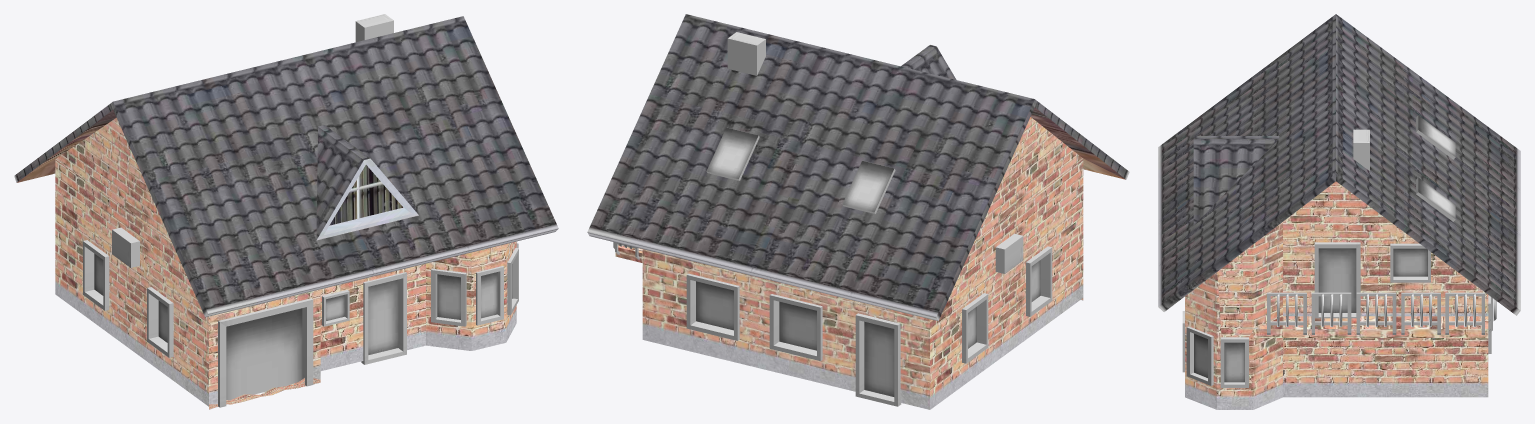
File: house2.glb
3 renders of one model, left to right at view 1: azimuth 30°, elevation 25°; view 2: azimuth 150°, elevation 25°; view 3: azimuth 270°, elevation 25°, orthographic. The views are drawn at different scales.
Visible parts, largest first — view 1: roof, WALL09, garage_door2, WALL10, WALL03, WALL02, WALL11, door3, WALL01, window_vertical2, window9, window8 (+7 smaller); view 2: roof, WALL09, WALL10, WALL06, WALL07, door4, WALL12, WALL08, window12, window11, window_roof2, window_roof (+5 smaller); view 3: roof, WALL05, WALL03, WALL04, door5, window13, window_vertical4, window_vertical3, railing2, railing3, railing, railing4 (+4 smaller).
Part boxes in pixels (x1,y1,x2,y2): roof: [14, 16, 558, 317]; WALL09: [55, 159, 139, 355]; garage_door2: [218, 298, 313, 407]; WALL10: [138, 217, 208, 406]; WALL03: [426, 241, 516, 350]; WALL02: [320, 263, 425, 370]; WALL11: [55, 118, 137, 216]; door3: [361, 272, 406, 364]; WALL01: [209, 289, 320, 404]; window_vertical2: [431, 268, 466, 326]; window9: [83, 240, 109, 310]; window8: [147, 287, 173, 357]; roof: [587, 14, 1129, 321]; WALL09: [930, 213, 1014, 409]; WALL10: [1012, 159, 1083, 347]; WALL06: [642, 249, 759, 367]; WALL07: [759, 277, 858, 391]; door4: [855, 313, 901, 406]; WALL12: [1012, 117, 1082, 211]; WALL08: [858, 302, 929, 409]; window12: [686, 273, 739, 340]; window11: [769, 294, 822, 361]; window_roof2: [706, 127, 759, 180]; window_roof: [842, 160, 895, 213]; roof: [1158, 14, 1520, 315]; WALL05: [1336, 182, 1488, 397]; WALL03: [1185, 222, 1282, 409]; WALL04: [1253, 181, 1340, 397]; door5: [1314, 242, 1360, 318]; window13: [1390, 243, 1430, 282]; window_vertical4: [1220, 337, 1248, 387]; window_vertical3: [1186, 326, 1213, 385]; railing2: [1311, 292, 1351, 334]; railing3: [1356, 292, 1396, 334]; railing: [1267, 292, 1306, 334]; railing4: [1401, 292, 1440, 334].
Bounding box in the file's own units: 2.95 × 2.13 × 2.83.
3 materials, 3 textured.
